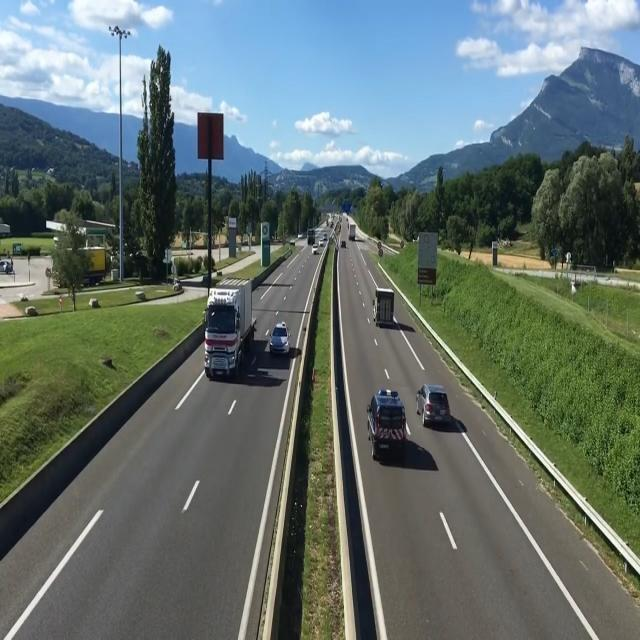Car: (416, 385, 450, 426), (268, 322, 292, 354), (310, 244, 319, 255), (340, 240, 347, 247)
Truck: (203, 275, 258, 380), (372, 288, 396, 328), (306, 228, 316, 245), (348, 222, 356, 242)
Van: (364, 388, 408, 460)
